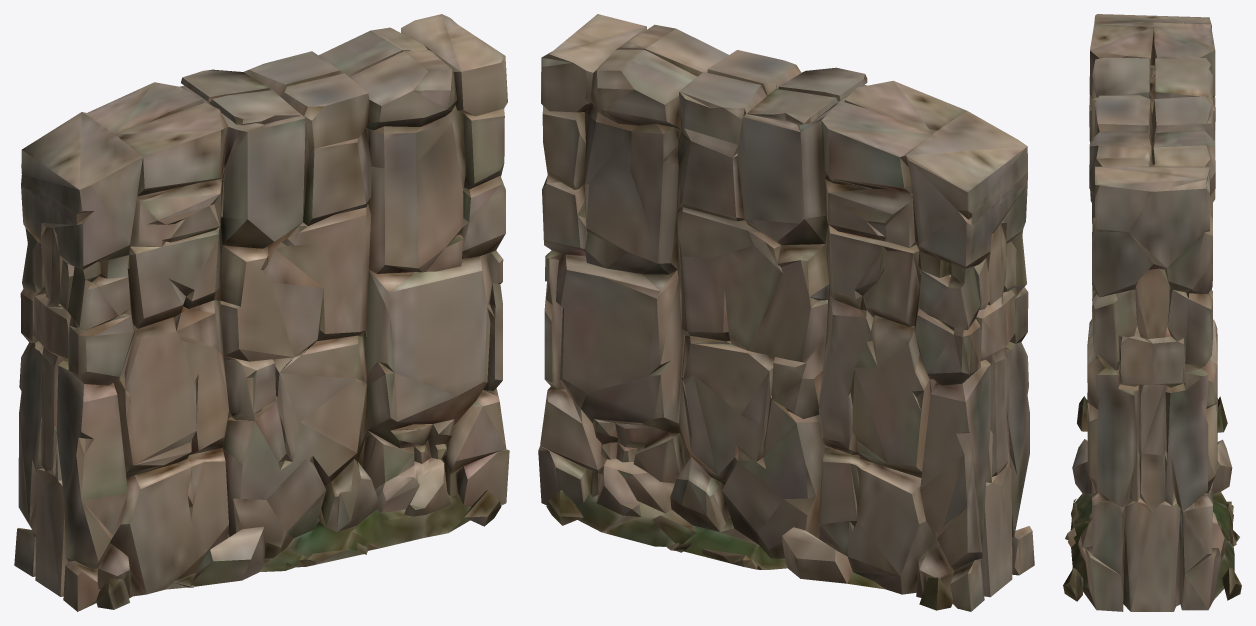
The model's file is Cliff.lod1.glb.
3 views of the same model, side by side, from view 1: azimuth 30°, elevation 25°; view 2: azimuth 150°, elevation 25°; view 3: azimuth 270°, elevation 25° (orthographic). The views are drawn at different scales.
Bounding box in the file's own units: 4 × 4 × 1.5.
1 material, 1 textured.
